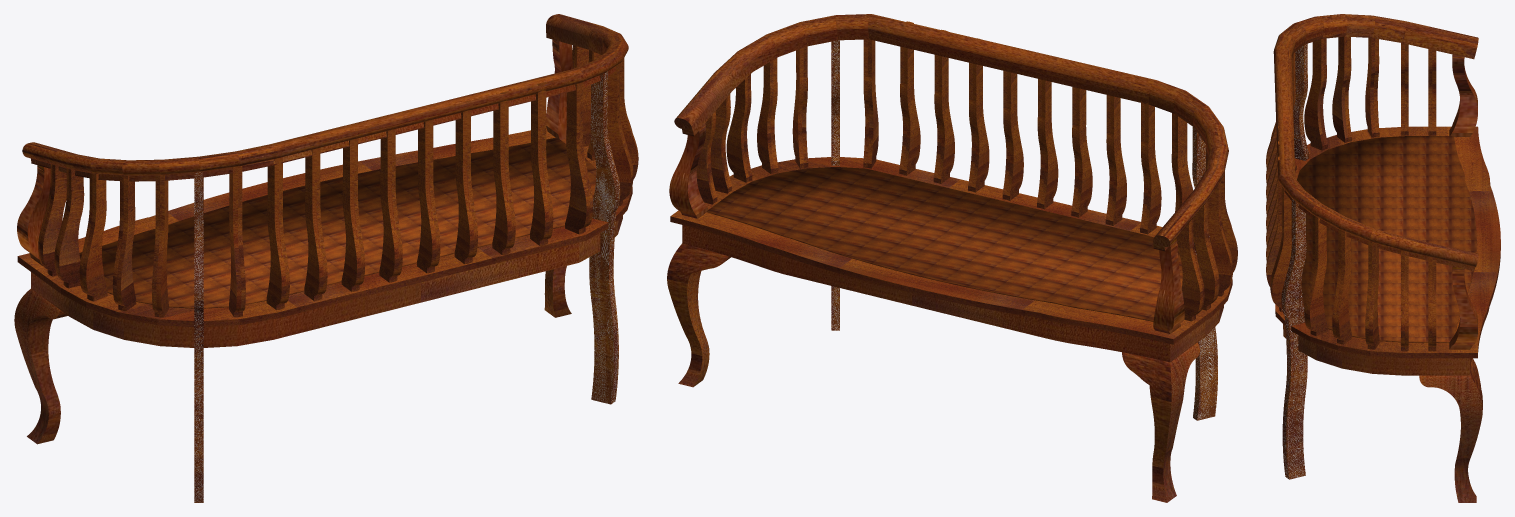
The picture shows the model from 3 angles, left to right: view 1: azimuth 30°, elevation 25°; view 2: azimuth 150°, elevation 25°; view 3: azimuth 270°, elevation 25°; orthographic projection. The views are drawn at different scales.
Parts seen in each view (by area): view 1: mesh2_mesh2-geometry, mesh4_mesh4-geometry, mesh1_mesh1-geometry, mesh3_mesh3-geometry, mesh5_mesh5-geometry, mesh22_mesh22-geometry, mesh23_mesh23-geometry, mesh9_mesh9-geometry, mesh14_mesh14-geometry, mesh15_mesh15-geometry, mesh16_mesh16-geometry, mesh18_mesh18-geometry (+16 smaller); view 2: mesh2_mesh2-geometry, mesh4_mesh4-geometry, mesh1_mesh1-geometry, mesh3_mesh3-geometry, mesh22_mesh22-geometry, mesh6_mesh6-geometry, mesh23_mesh23-geometry, mesh20_mesh20-geometry, mesh7_mesh7-geometry, mesh19_mesh19-geometry, mesh17_mesh17-geometry, mesh15_mesh15-geometry (+16 smaller); view 3: mesh2_mesh2-geometry, mesh4_mesh4-geometry, mesh1_mesh1-geometry, mesh5_mesh5-geometry, mesh6_mesh6-geometry, mesh3_mesh3-geometry, mesh10_mesh10-geometry, mesh25_mesh25-geometry, mesh11_mesh11-geometry, mesh26_mesh26-geometry, mesh21_mesh21-geometry, mesh7_mesh7-geometry (+9 smaller).
Boxes of the visible parts, x1,y1,x2,y2 form: mesh2_mesh2-geometry: (79, 137, 596, 308); mesh4_mesh4-geometry: (22, 14, 628, 181); mesh1_mesh1-geometry: (17, 128, 632, 327); mesh3_mesh3-geometry: (31, 215, 622, 347); mesh5_mesh5-geometry: (589, 61, 620, 404); mesh22_mesh22-geometry: (14, 289, 67, 444); mesh23_mesh23-geometry: (194, 171, 203, 502); mesh9_mesh9-geometry: (565, 82, 593, 234); mesh14_mesh14-geometry: (530, 81, 553, 245); mesh15_mesh15-geometry: (492, 91, 515, 254); mesh16_mesh16-geometry: (454, 100, 477, 264); mesh18_mesh18-geometry: (379, 129, 402, 282); mesh2_mesh2-geometry: (706, 167, 1182, 321); mesh4_mesh4-geometry: (674, 14, 1228, 251); mesh1_mesh1-geometry: (670, 157, 1232, 344); mesh3_mesh3-geometry: (682, 225, 1223, 362); mesh22_mesh22-geometry: (1122, 342, 1199, 502); mesh6_mesh6-geometry: (667, 243, 730, 387); mesh23_mesh23-geometry: (1192, 112, 1217, 420); mesh20_mesh20-geometry: (1105, 95, 1126, 225); mesh7_mesh7-geometry: (669, 123, 708, 218); mesh19_mesh19-geometry: (1071, 87, 1092, 217); mesh17_mesh17-geometry: (1002, 70, 1023, 200); mesh15_mesh15-geometry: (933, 29, 954, 183); mesh2_mesh2-geometry: (1297, 136, 1476, 342); mesh4_mesh4-geometry: (1273, 14, 1478, 270); mesh1_mesh1-geometry: (1275, 126, 1500, 358); mesh5_mesh5-geometry: (1281, 192, 1307, 479); mesh6_mesh6-geometry: (1419, 358, 1482, 502); mesh3_mesh3-geometry: (1283, 324, 1471, 375); mesh10_mesh10-geometry: (1304, 215, 1327, 336); mesh25_mesh25-geometry: (1304, 38, 1327, 150); mesh11_mesh11-geometry: (1332, 229, 1351, 344); mesh26_mesh26-geometry: (1332, 36, 1351, 142); mesh21_mesh21-geometry: (1449, 54, 1477, 136); mesh7_mesh7-geometry: (1449, 266, 1477, 349).
Size of the model in its own units: 0.8081 by 0.4751 by 0.3481.
